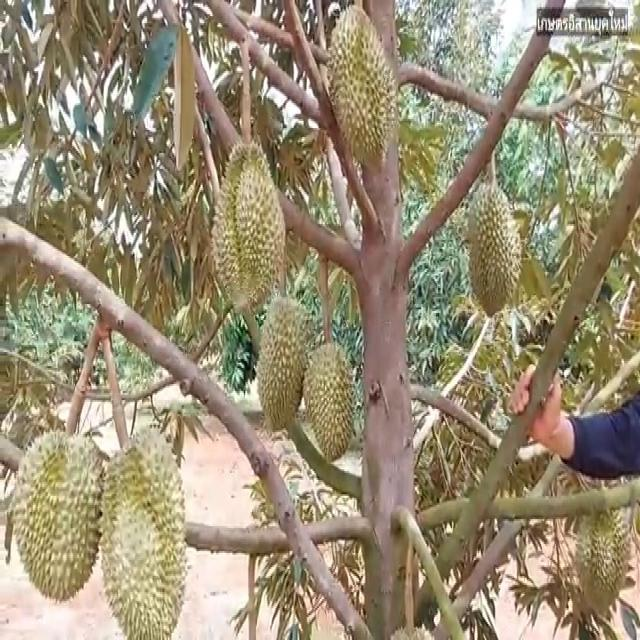durian: (96, 414, 188, 638), (9, 428, 110, 606), (321, 4, 410, 173), (209, 140, 289, 317), (248, 292, 317, 437), (462, 175, 526, 325), (570, 497, 630, 622), (301, 337, 358, 468)
